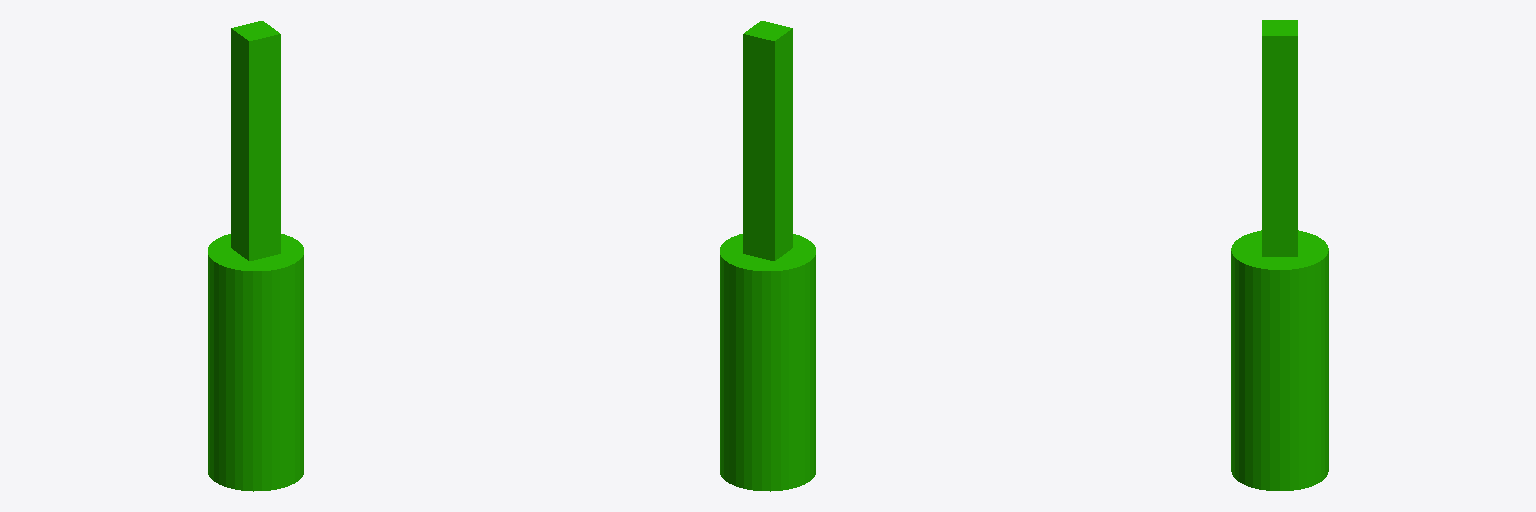
The robot description file, URDF, robot "kermit":
<?xml version="1.0"?>
<robot name="kermit">
  <material name="green">
    <color rgba="0.18 0.78 0.02 1"/>
  </material>
  <link name="base_link">
    <visual>
      <geometry>
        <cylinder length="1.0" radius="0.2"/>
      </geometry>
      <material name="green"/>
    </visual>
    <collision>
      <geometry>
        <cylinder length="1.0" radius="0.2"/>
      </geometry>
    </collision>
  </link>
  <link name="flipper">
    <visual>
      <geometry>
        <box size="0.15 0.15 1.0"/>
      </geometry>
      <material name="green"/>
      <origin xyz="0.0 0.0 0.5"/>
    </visual>
    <collision>
      <geometry>
        <box size="0.15 0.15 1.0"/>
      </geometry>
      <origin xyz="0.0 0.0 0.5"/>
    </collision>
  </link>
  <joint name="joint_a" type="continuous">
    <parent link="base_link"/>
    <child link="flipper"/>
    <axis xyz="0 1 0"/>
    <origin xyz="0.0 0.0 0.5"/>
  </joint>
</robot>

--- Render facts (derived) ---
The picture shows the robot from 3 angles, left to right: view 1: azimuth 30°, elevation 25°; view 2: azimuth 150°, elevation 25°; view 3: azimuth 270°, elevation 25°; orthographic projection.
Robot: kermit — 2 links, 1 joints (1 continuous); root link base_link; default pose: every joint at zero.
Links seen in each view (by area): view 1: base_link, flipper; view 2: base_link, flipper; view 3: base_link, flipper.
Boxes of the visible links, x1,y1,x2,y2 form: base_link: [208, 234, 303, 491]; flipper: [231, 21, 280, 260]; base_link: [720, 234, 815, 491]; flipper: [743, 21, 792, 260]; base_link: [1231, 230, 1328, 490]; flipper: [1262, 20, 1297, 256].
Bounding box of the posed robot: 0.4 × 0.4 × 2 m (x, y, z).
Geometry: primitives only (box / cylinder / sphere), no mesh files.